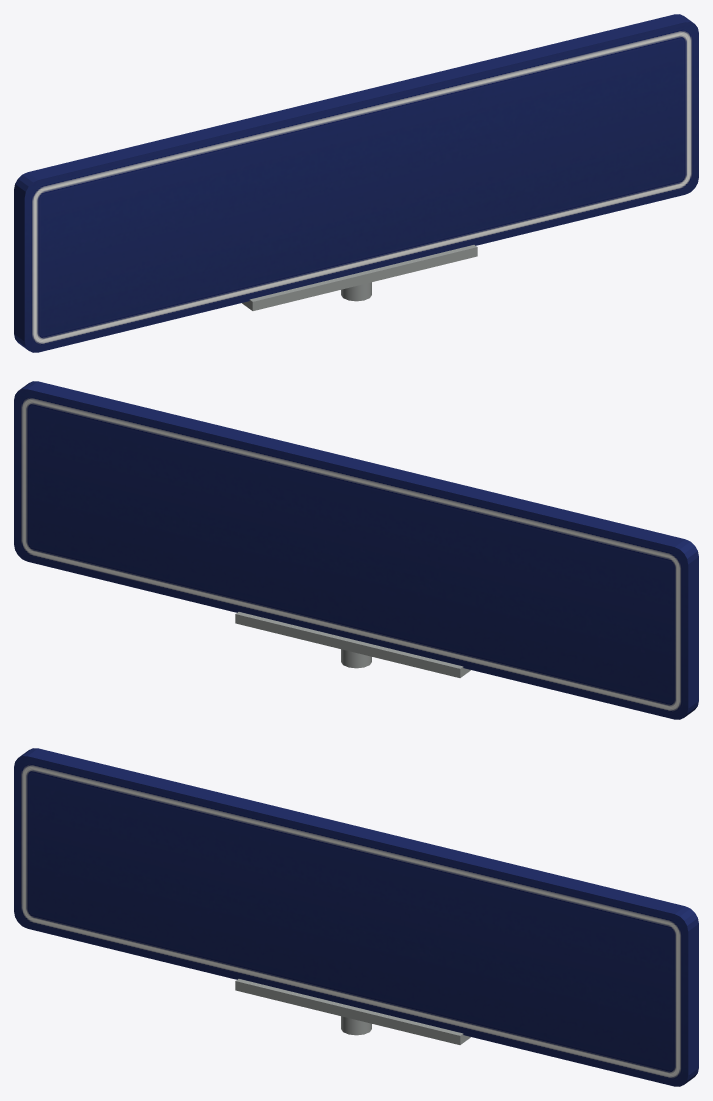
The model's file is street_name_plate.glb.
3 views of the same model, one above another, from view 1: azimuth 30°, elevation 25°; view 2: azimuth 150°, elevation 25°; view 3: azimuth 330°, elevation 25° (orthographic).
Visible parts, largest first — view 1: street_name_plate; view 2: street_name_plate; view 3: street_name_plate.
Boxes of the visible parts, x1,y1,x2,y2 form: street_name_plate: (14, 14, 698, 352); street_name_plate: (14, 381, 698, 719); street_name_plate: (14, 748, 698, 1086).
Size of the model in its own units: 0.9 by 0.252 by 0.04.
Materials: 2 (1 with a texture image).
